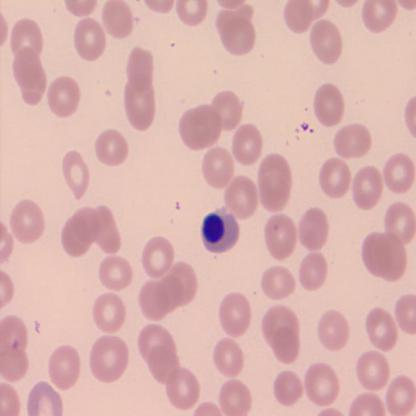NRC: (201, 206, 240, 256)
